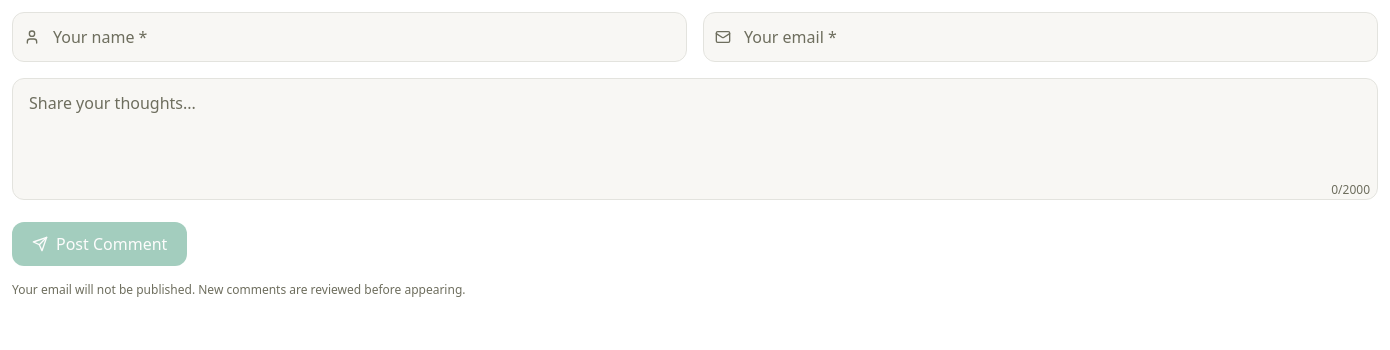
CommentForm › Error handling › shows error from server
Type "Test User" into the field with placeholder "Your name *".
click(350, 37); type("Test User")  # box 12,12 -> 687,62
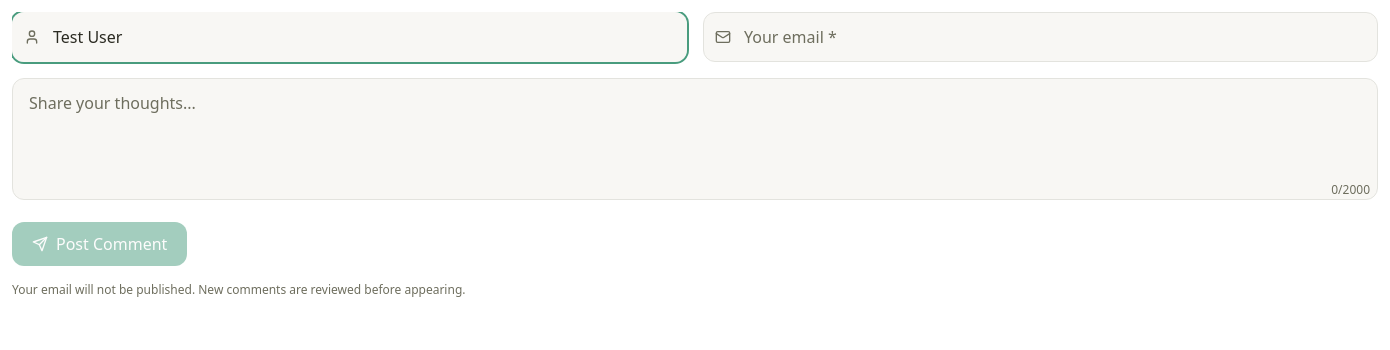
Type "test@example.com" into the field with placeholder "Your email *".
click(1040, 37); type("test@example.com")  # box 703,12 -> 1378,62
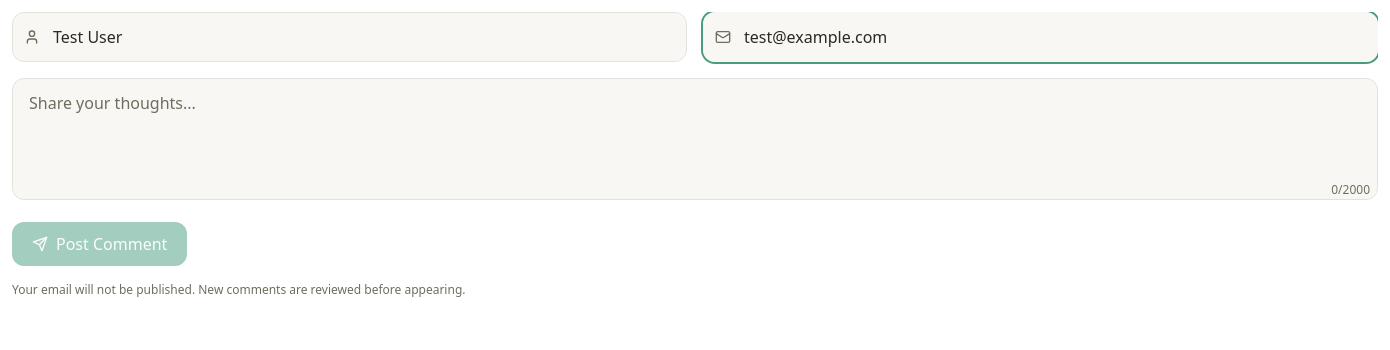
Type "Test comment" into the text box with placeholder "Share your thoughts...".
click(695, 139); type("Test comment")  # box 12,78 -> 1378,200
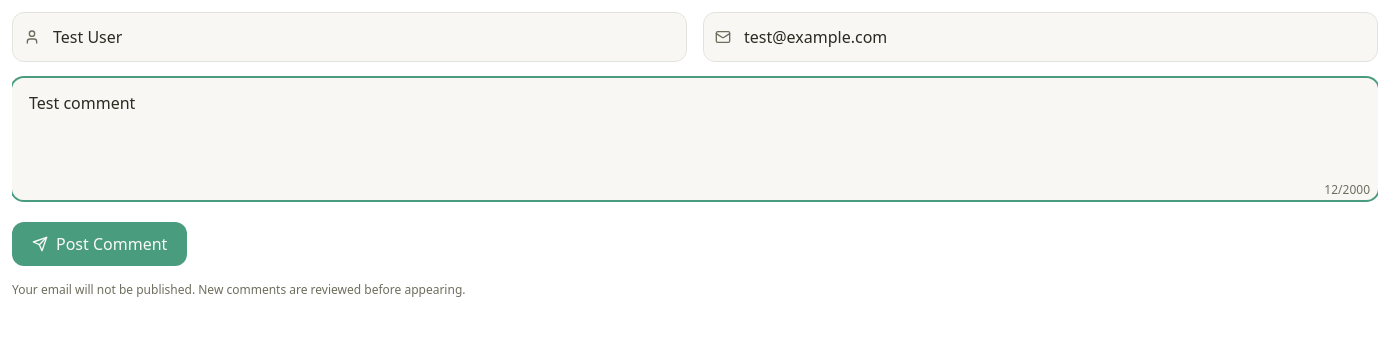
Click the button "Post Comment".
click(100, 244)  # box 12,222 -> 187,266
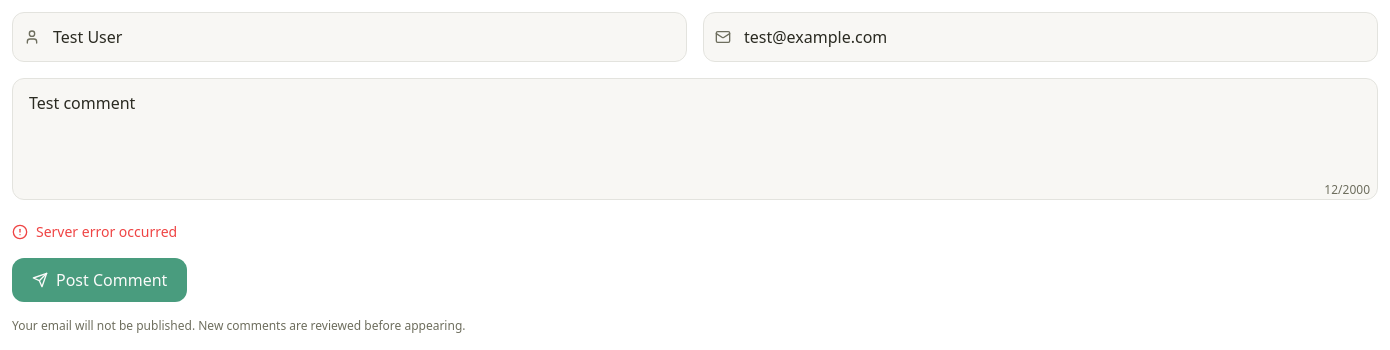
Result: the text "Server error occurred" is shown at 12,222 -> 177,241
